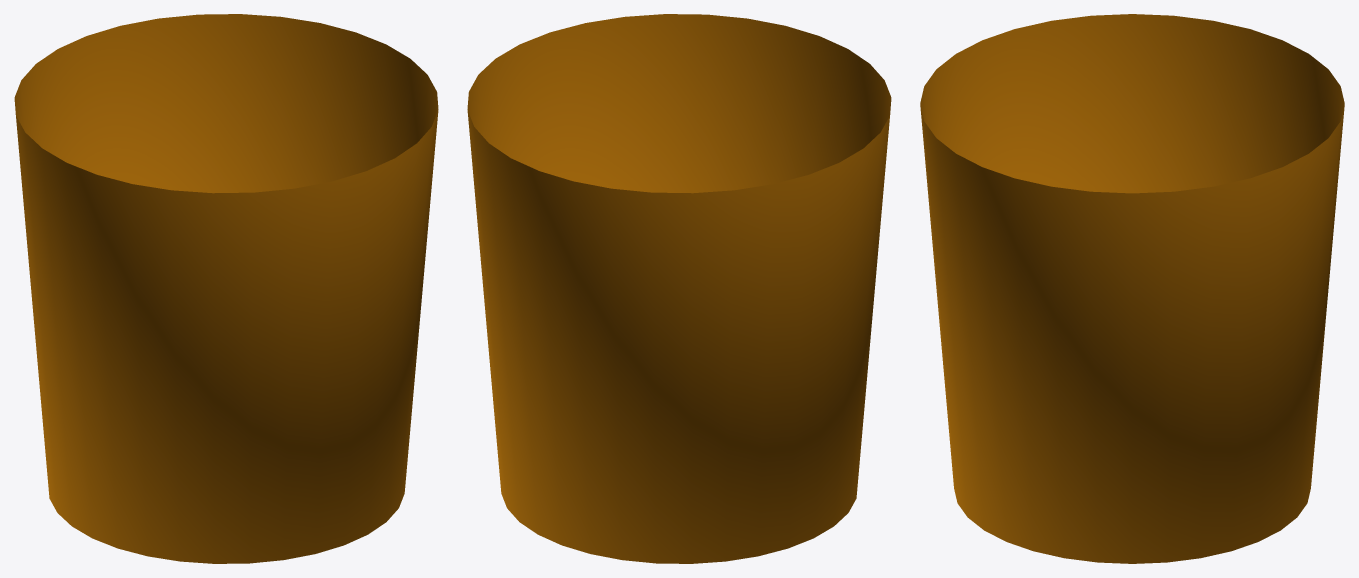
Rendered from Eimer.fbx.
The picture shows the model from 3 angles, left to right: view 1: azimuth 30°, elevation 25°; view 2: azimuth 150°, elevation 25°; view 3: azimuth 270°, elevation 25°; orthographic projection.
Visible parts, largest first — view 1: Cylinder; view 2: Cylinder; view 3: Cylinder.
Boxes of the visible parts, left/top/right/bottom form: Cylinder: left=14, top=14, right=438, bottom=563; Cylinder: left=467, top=14, right=891, bottom=563; Cylinder: left=920, top=14, right=1344, bottom=563.
Size of the model in its own units: 60 by 60 by 60.
